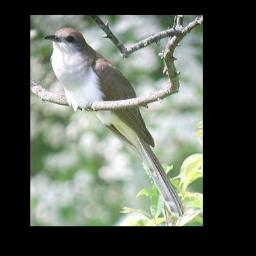Cuckoo: (44, 26, 188, 219)
